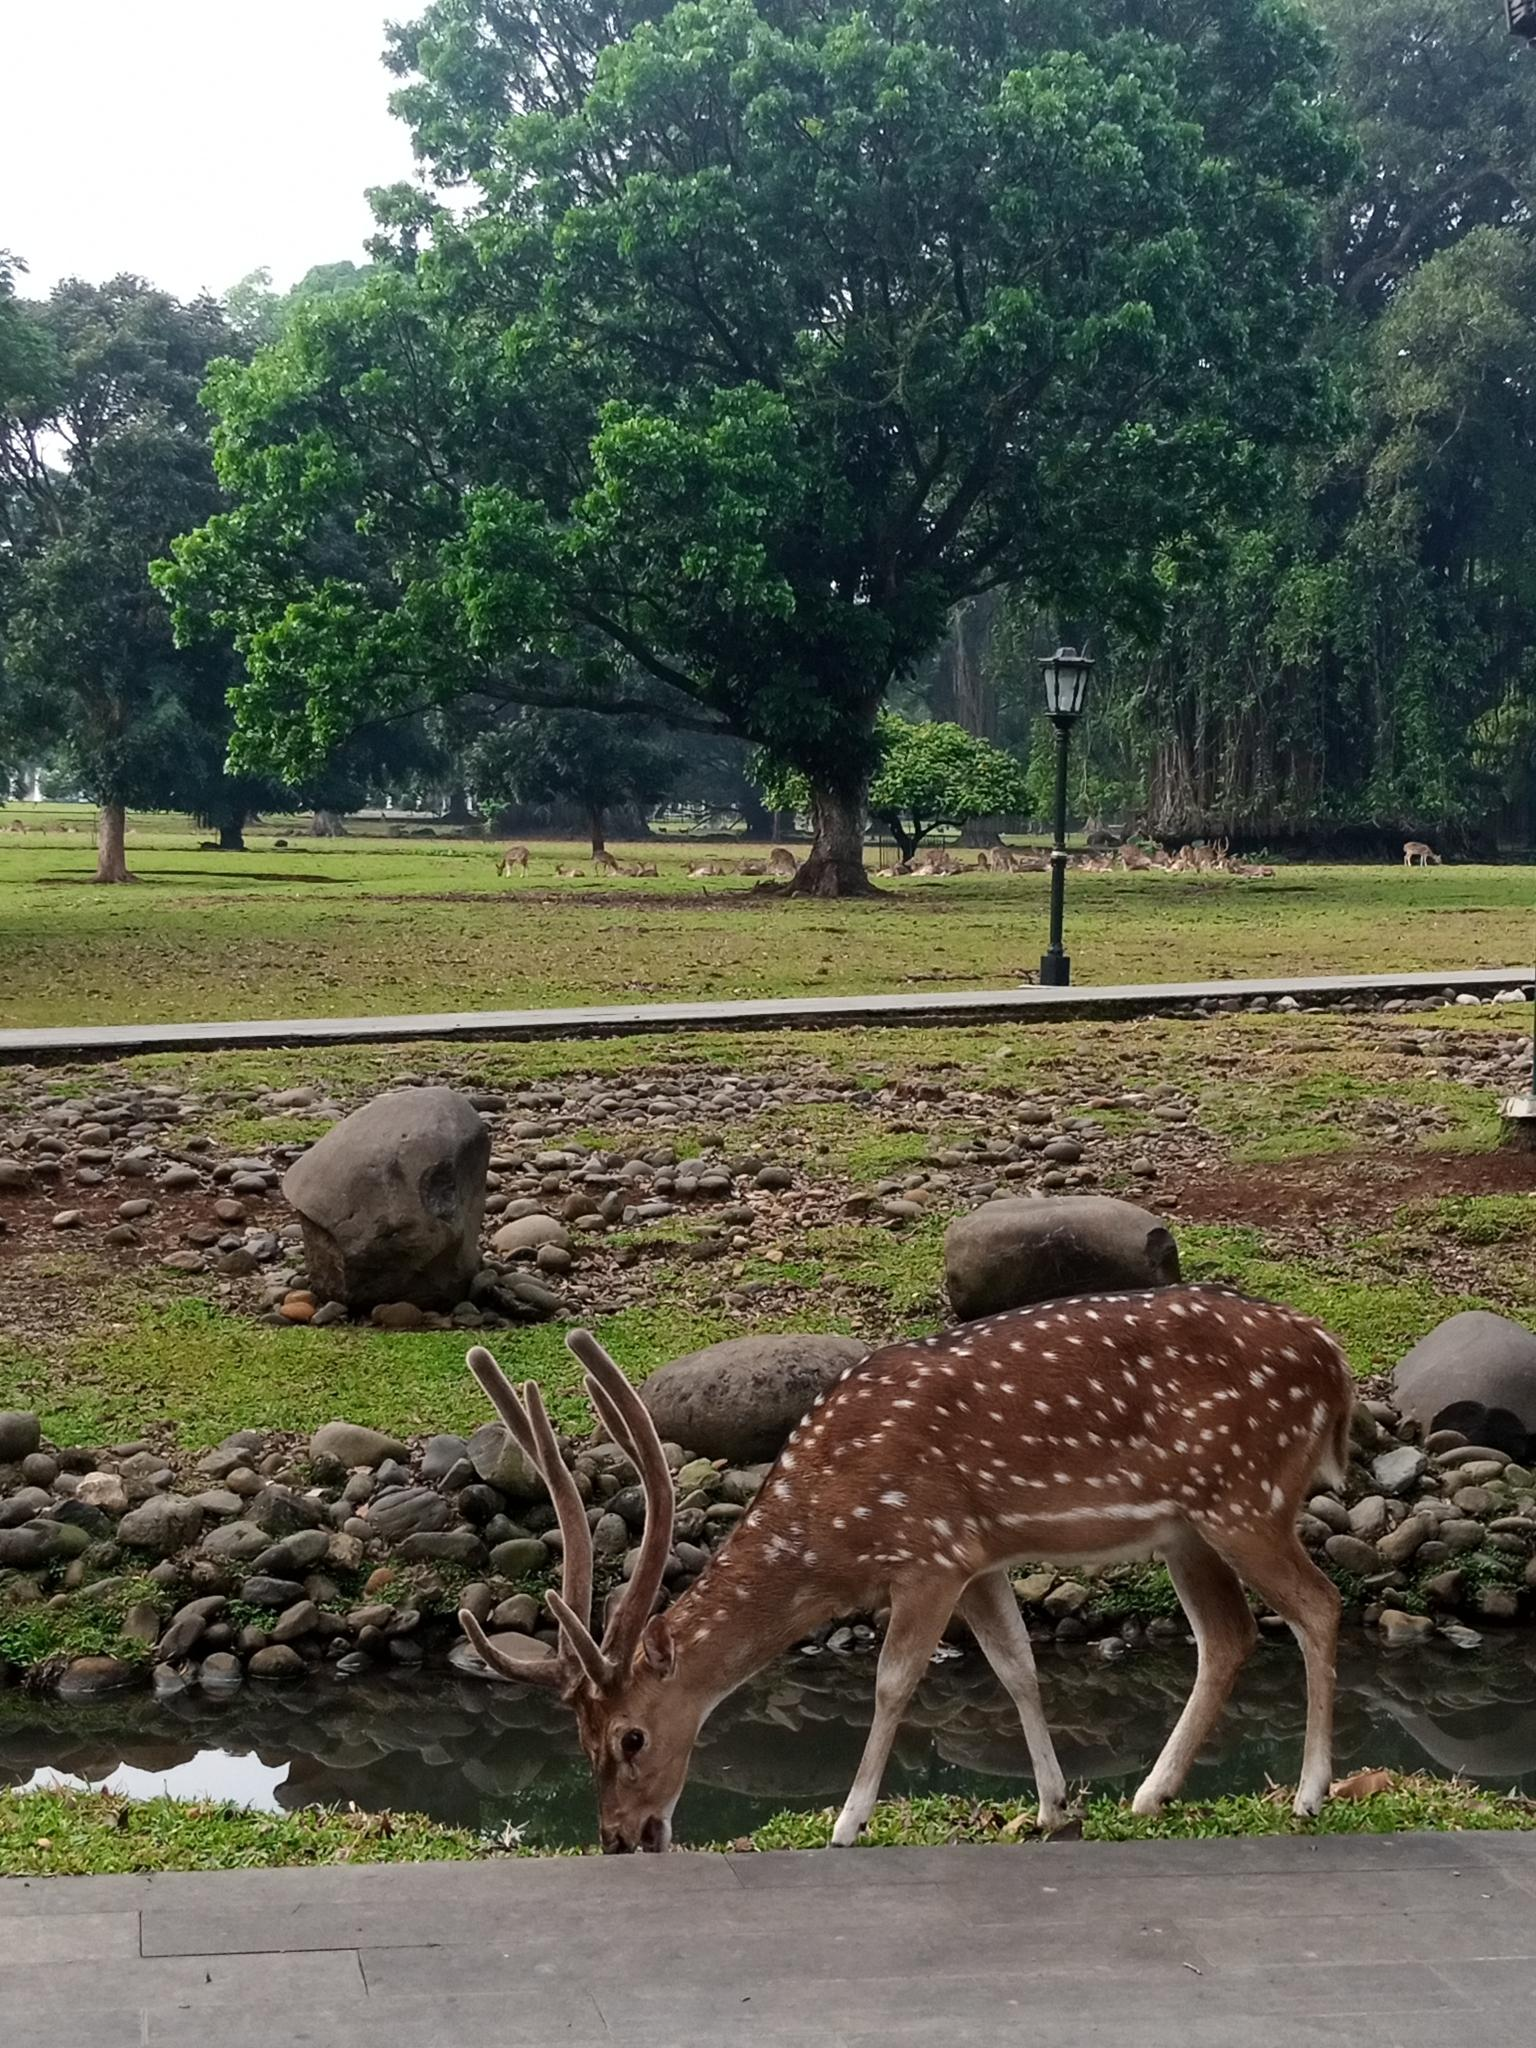Deer: (461, 1285, 1355, 1851)
